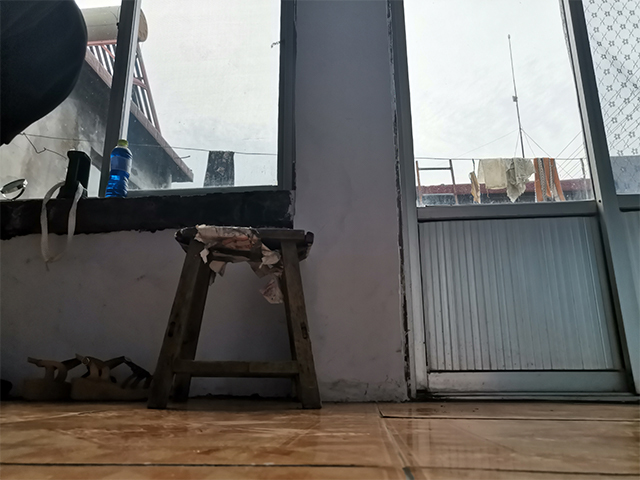stool: (145, 222, 324, 411)
